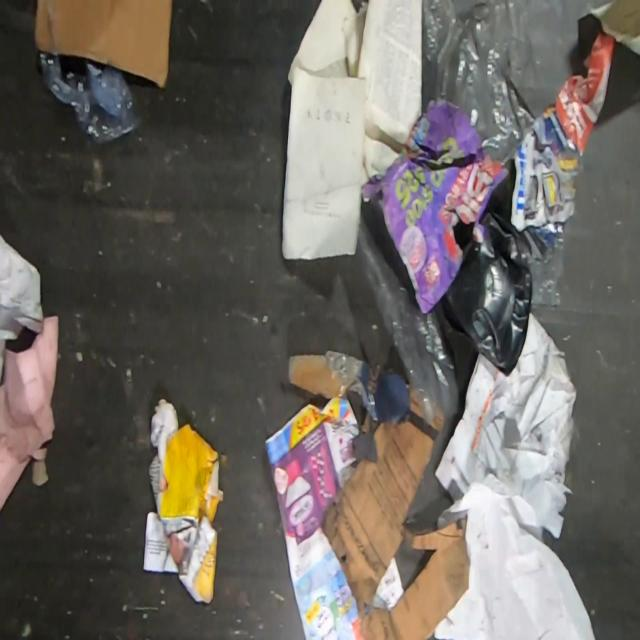cardboard: (320, 420, 470, 640), (143, 397, 224, 601), (33, 0, 171, 89), (287, 348, 426, 436)
rigid_plastic: (439, 218, 533, 377), (38, 50, 142, 145)
soft_plastic: (356, 197, 480, 425), (421, 0, 537, 166), (516, 230, 569, 308)
